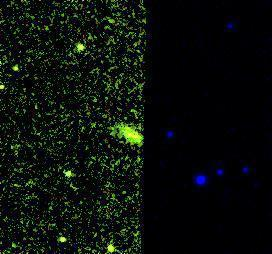star: (0, 52, 29, 82)
